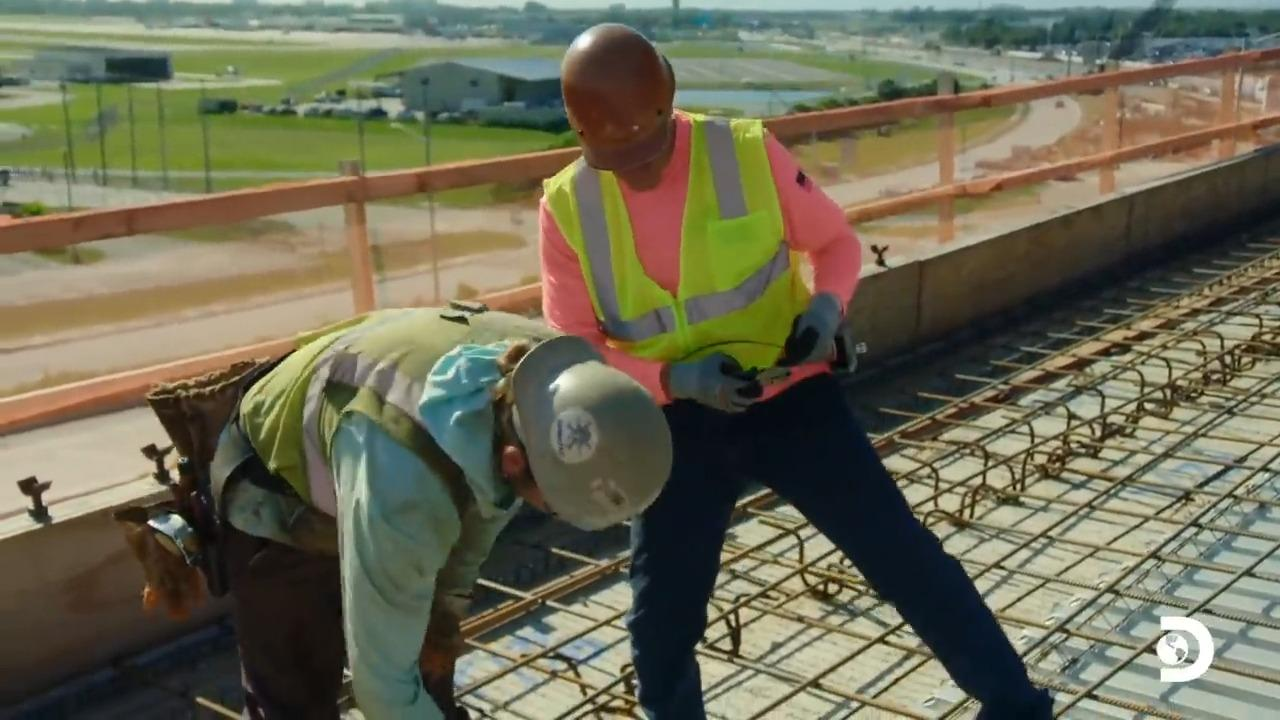Gloves: (676, 342, 753, 422), (422, 617, 480, 701), (778, 301, 836, 359)
Helmet: (509, 334, 673, 533), (559, 22, 675, 171)
Person: (535, 0, 1054, 698), (119, 299, 674, 719)
Safety Vest: (573, 178, 804, 353), (280, 335, 489, 511)
